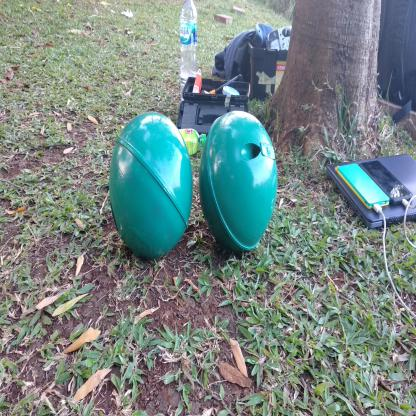green_buoy: (106, 116, 194, 266), (197, 108, 277, 255)
